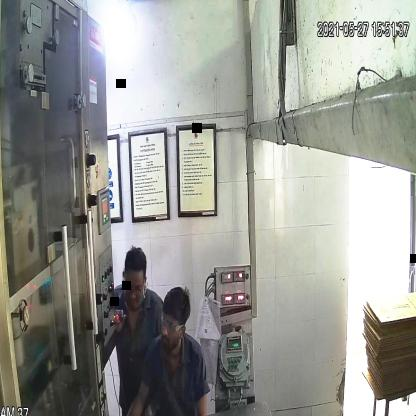goggles: (159, 311, 185, 336)
